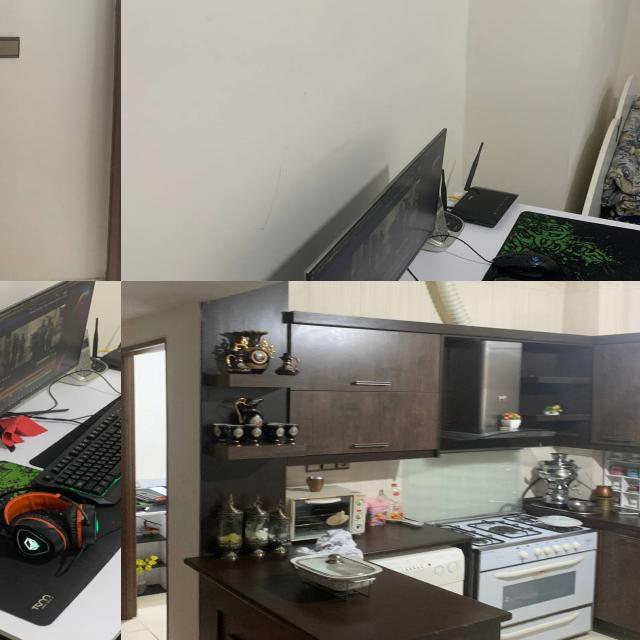Wall: (121, 0, 464, 281), (467, 0, 635, 213), (121, 305, 198, 625), (288, 281, 640, 337), (129, 341, 168, 498)
